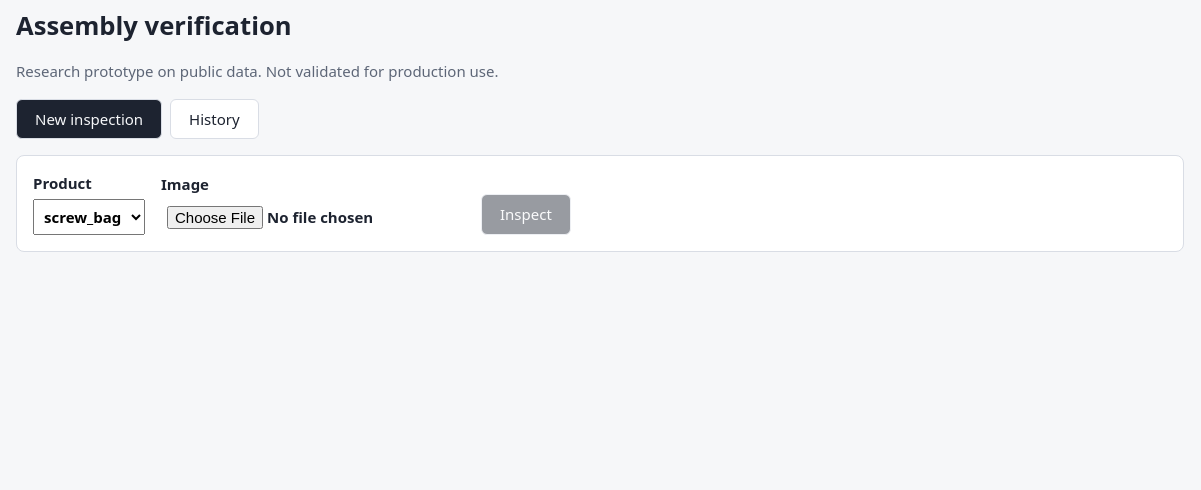
Test: History › shows an error if a delete fails and keeps the row
Click the button "History": (214, 119) [170, 99, 259, 139]
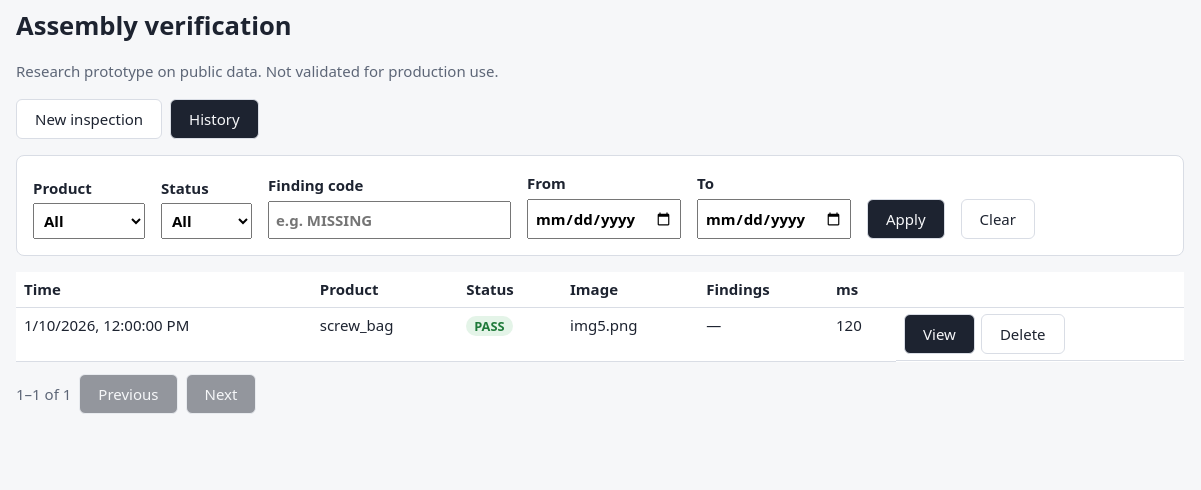
Click the button with aria-label "Delete img5.png": (1023, 334) [981, 314, 1064, 354]
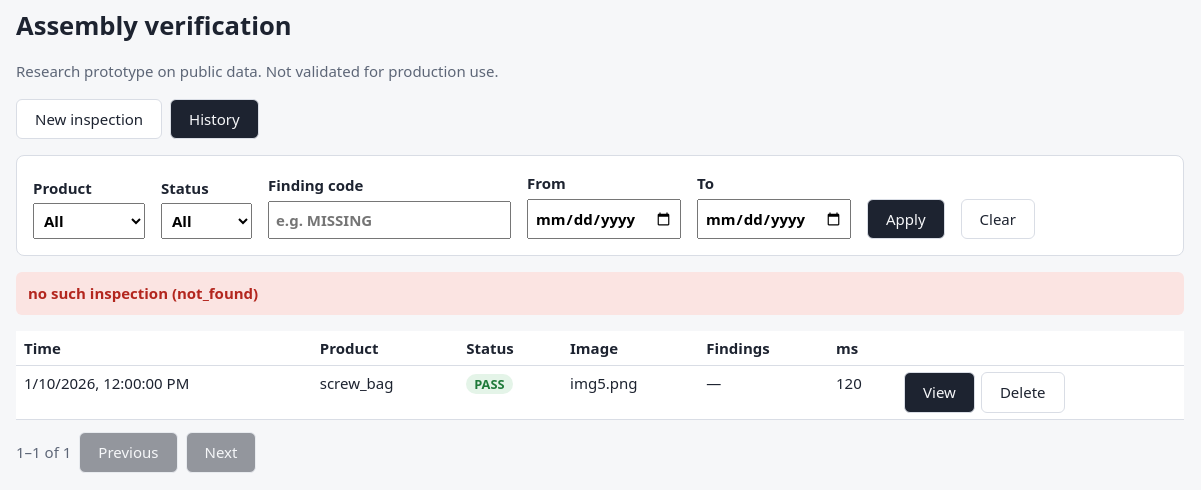
Expected: the text "img5.png" is shown, [562, 366, 698, 420]
Expected: the message reads "no such inspection (not_found)", [28, 283, 258, 303]
